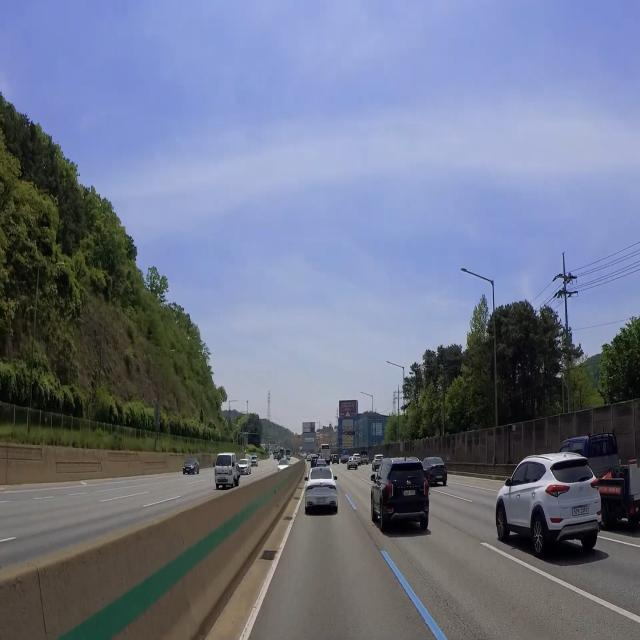car: (569, 503, 593, 521), (313, 493, 330, 511), (216, 471, 228, 488), (403, 488, 420, 499), (434, 472, 448, 483)
